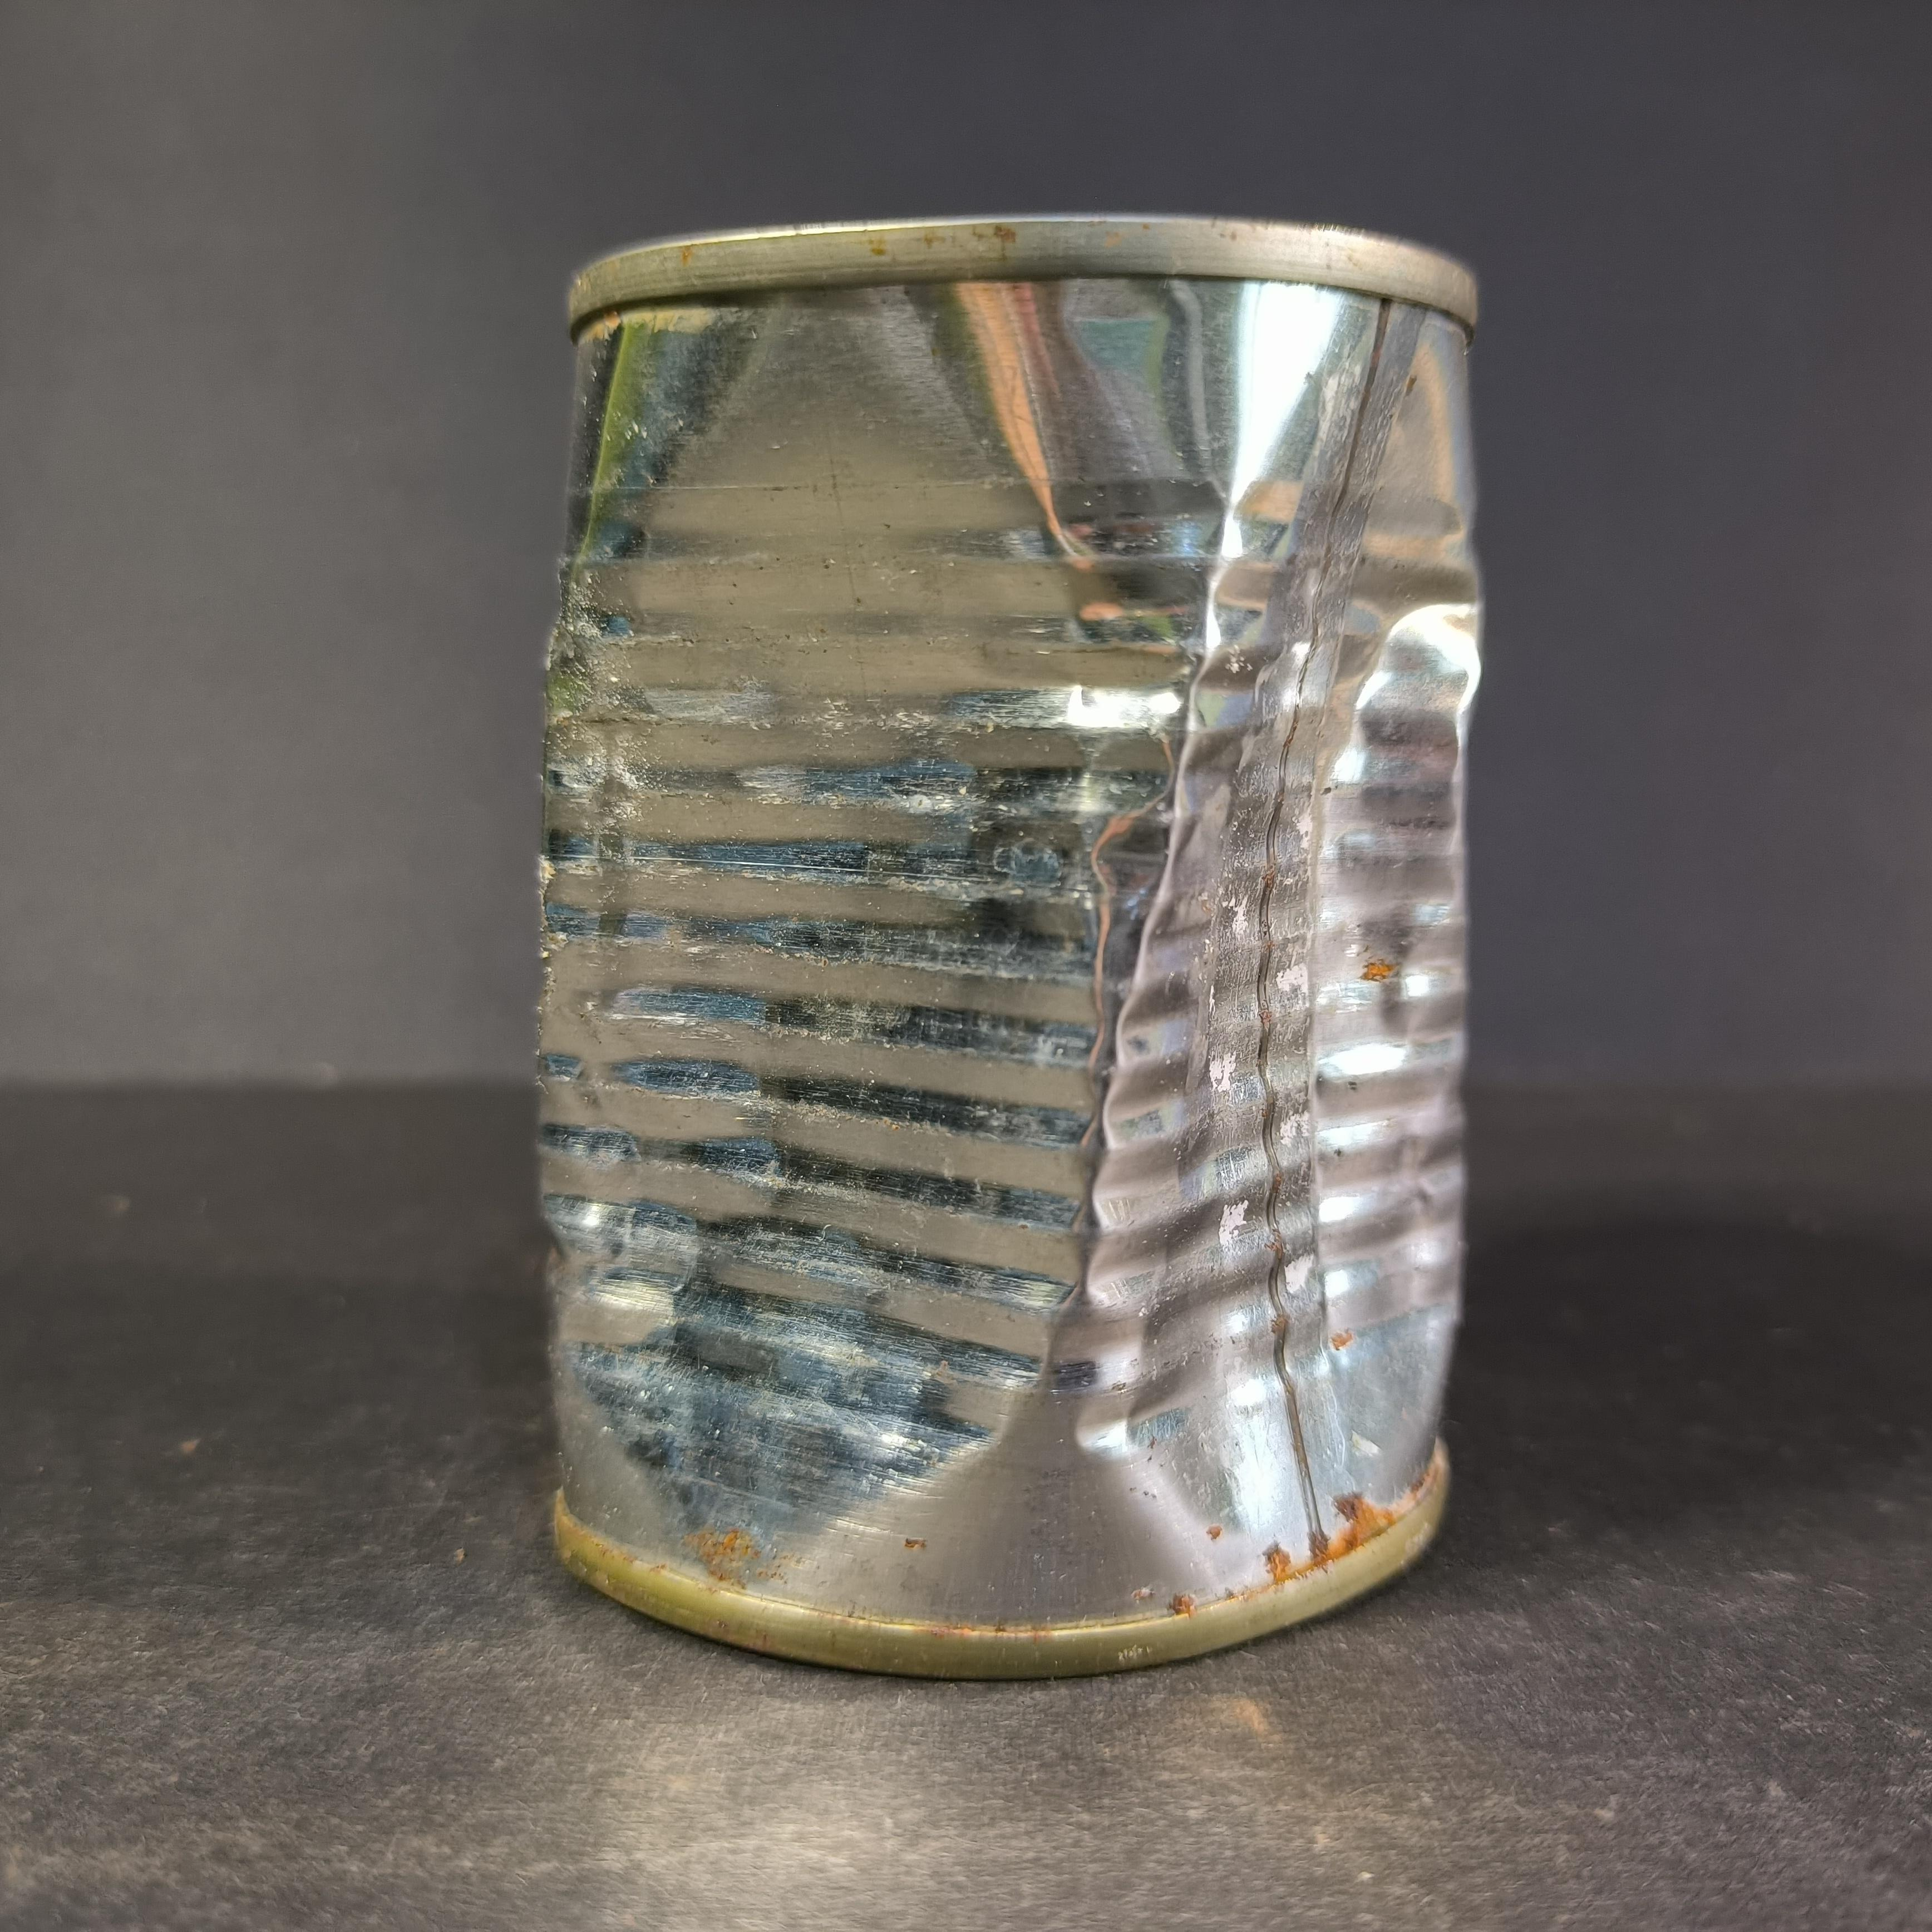Dented: (511, 150, 1493, 1709)
